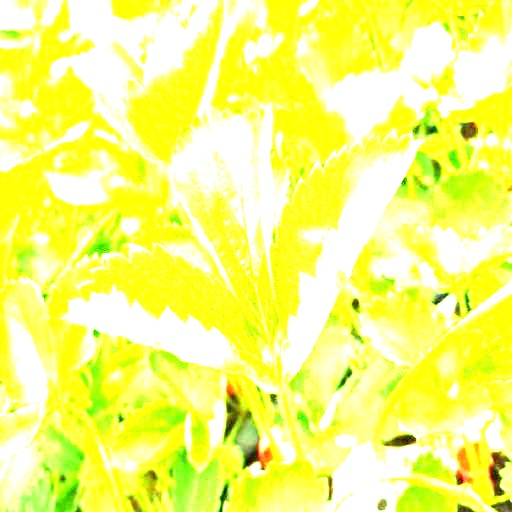Powdery Mildew Leaf: (267, 129, 427, 386), (63, 242, 282, 393), (169, 101, 278, 347)
